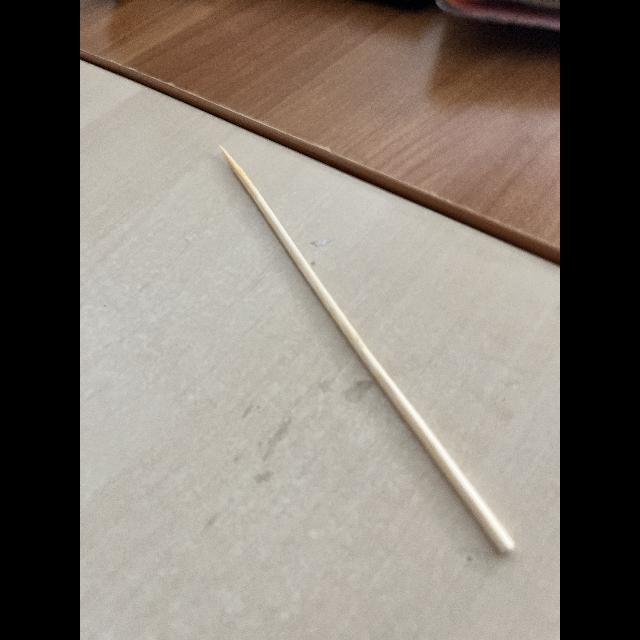stick: (214, 150, 518, 560)
